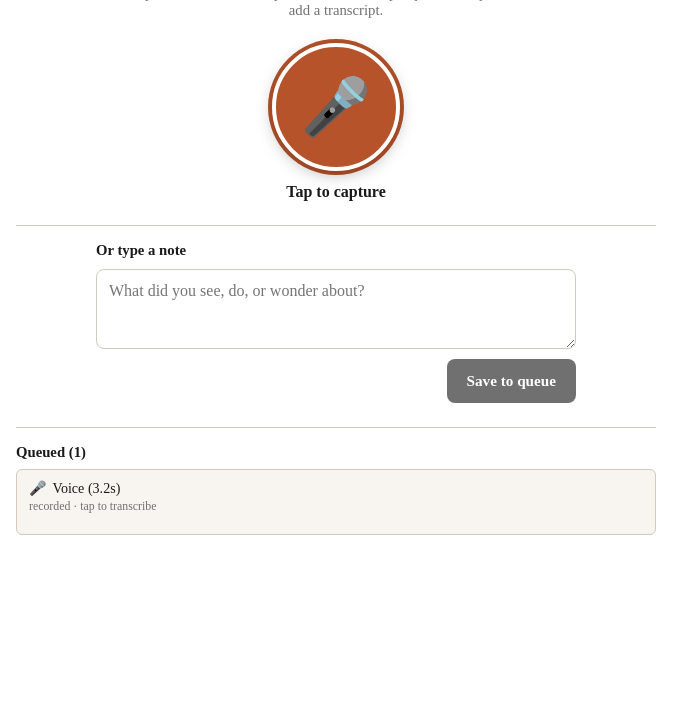
Test case: FieldCapture (Inc 2 Bite 5 — TranscriptReview wiring) › tap a queued audio item → TranscriptReview expands inline
What coordinates should you click on to do the following:
click the button with test id "field-queue-item-toggle"
I would click on:
 (86, 488)
Its box is [17,470,655,534].
(page scrolled)
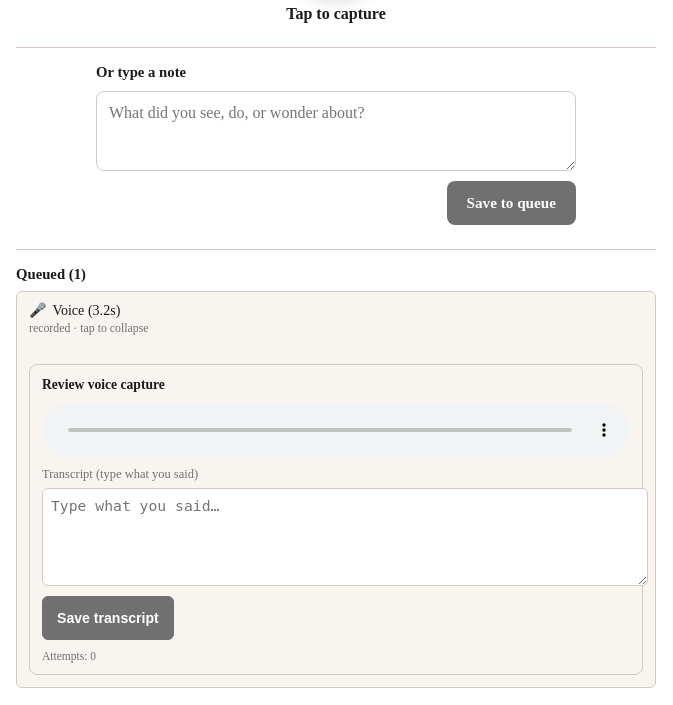
Expected: the element with test id "transcript-review" is shown, [29,364,643,675]
